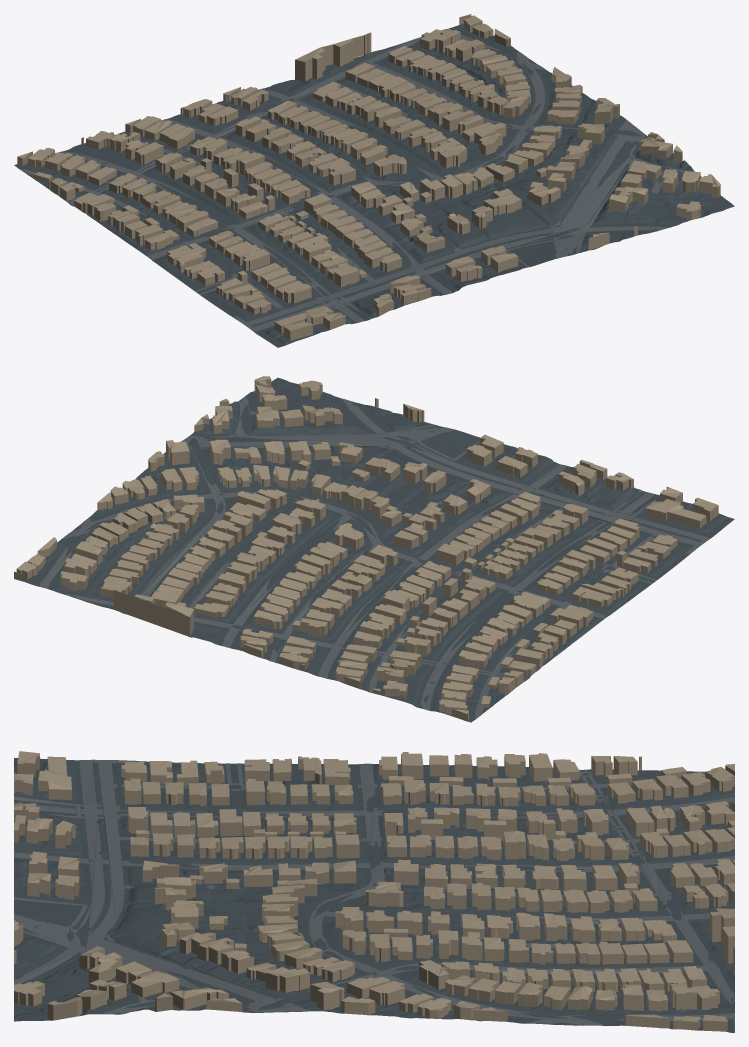
File: epsg26910-1424-10875.lod0.glb
The picture shows the model from 3 angles, top to bottom: view 1: azimuth 30°, elevation 25°; view 2: azimuth 150°, elevation 25°; view 3: azimuth 270°, elevation 25°; orthographic projection. The views are drawn at different scales.
Parts seen in each view (by area): view 1: epsg26910-1424-10875-lod0; view 2: epsg26910-1424-10875-lod0; view 3: epsg26910-1424-10875-lod0.
Boxes of the visible parts, x1,y1,x2,y2 form: epsg26910-1424-10875-lod0: (14, 14, 734, 347); epsg26910-1424-10875-lod0: (14, 376, 734, 722); epsg26910-1424-10875-lod0: (14, 751, 734, 1032).
Size of the model in its own units: 384 by 48.75 by 384.
